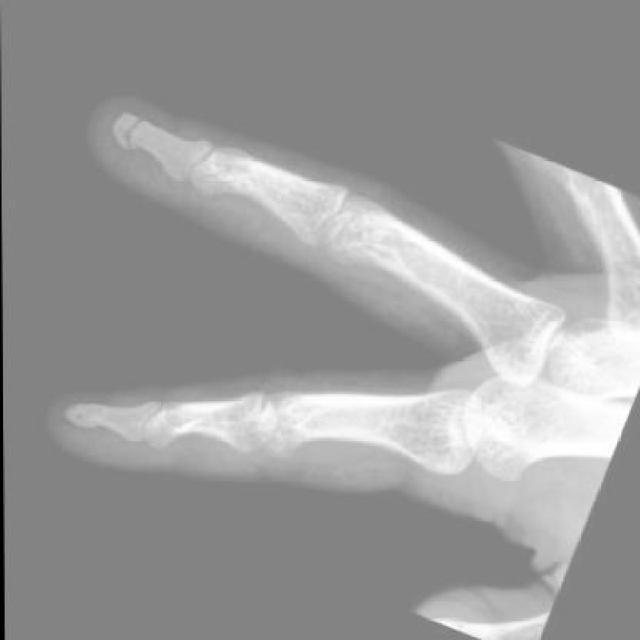Fracture: (99, 95, 161, 157)
